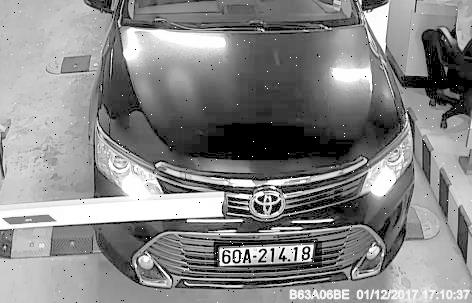License-plate: (215, 242, 323, 269)
